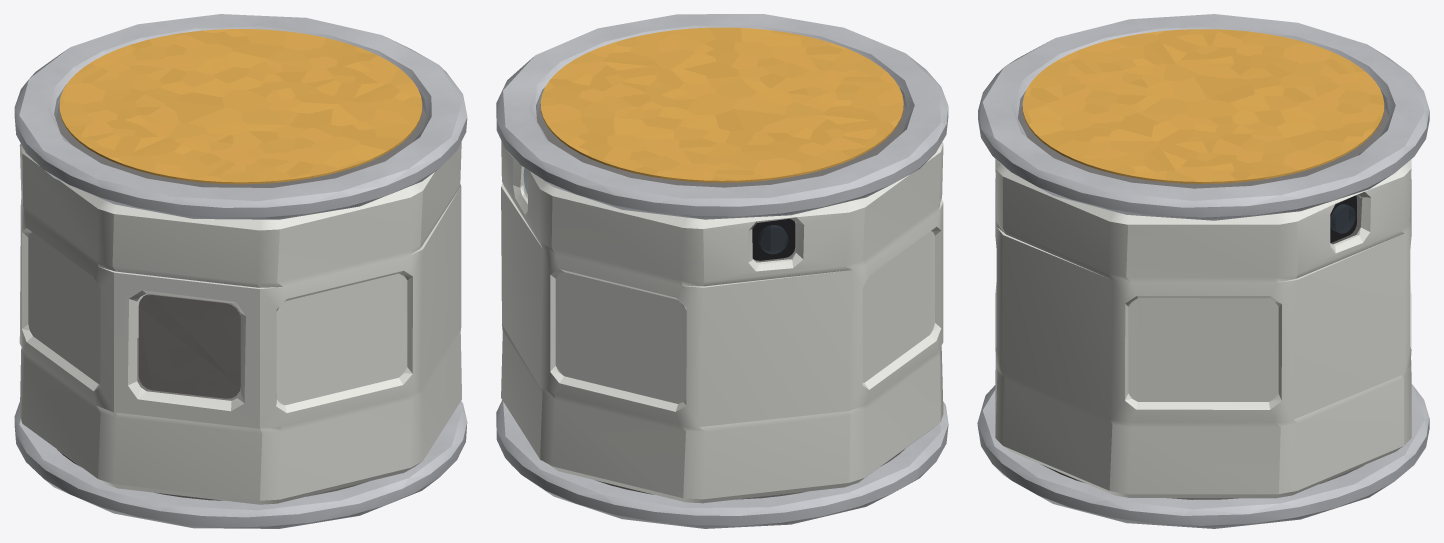
Rendered from ax_cmd_10_probe_bus.glb.
The picture shows the model from 3 angles, left to right: view 1: azimuth 30°, elevation 25°; view 2: azimuth 150°, elevation 25°; view 3: azimuth 270°, elevation 25°; orthographic projection.
Visible parts, largest first — view 1: shell, mli_top_deck, interface_rings, patch_antenna, decks; view 2: shell, mli_top_deck, interface_rings, decks, sensor_liners, star_tracker_lenses; view 3: shell, mli_top_deck, interface_rings, decks, sensor_liners, star_tracker_lenses.
Part boxes in pixels (<box>): shell: <box>19,142,461,504</box>; mli_top_deck: <box>59,29,422,184</box>; interface_rings: <box>14,14,467,528</box>; patch_antenna: <box>138,294,240,398</box>; decks: <box>55,104,426,500</box>; shell: <box>501,141,943,503</box>; mli_top_deck: <box>540,27,903,182</box>; interface_rings: <box>496,14,948,528</box>; decks: <box>536,102,907,499</box>; sensor_liners: <box>752,218,795,260</box>; star_tracker_lenses: <box>523,168,788,254</box>; shell: <box>995,159,1411,498</box>; mli_top_deck: <box>1022,29,1384,183</box>; interface_rings: <box>977,14,1429,528</box>; decks: <box>1018,105,1389,499</box>; sensor_liners: <box>1330,195,1356,242</box>; star_tracker_lenses: <box>1330,204,1355,233</box>.
Bounding box in the file's own units: 1.25 × 1.01 × 1.25.
Materials: 6 (3 with a texture image).
